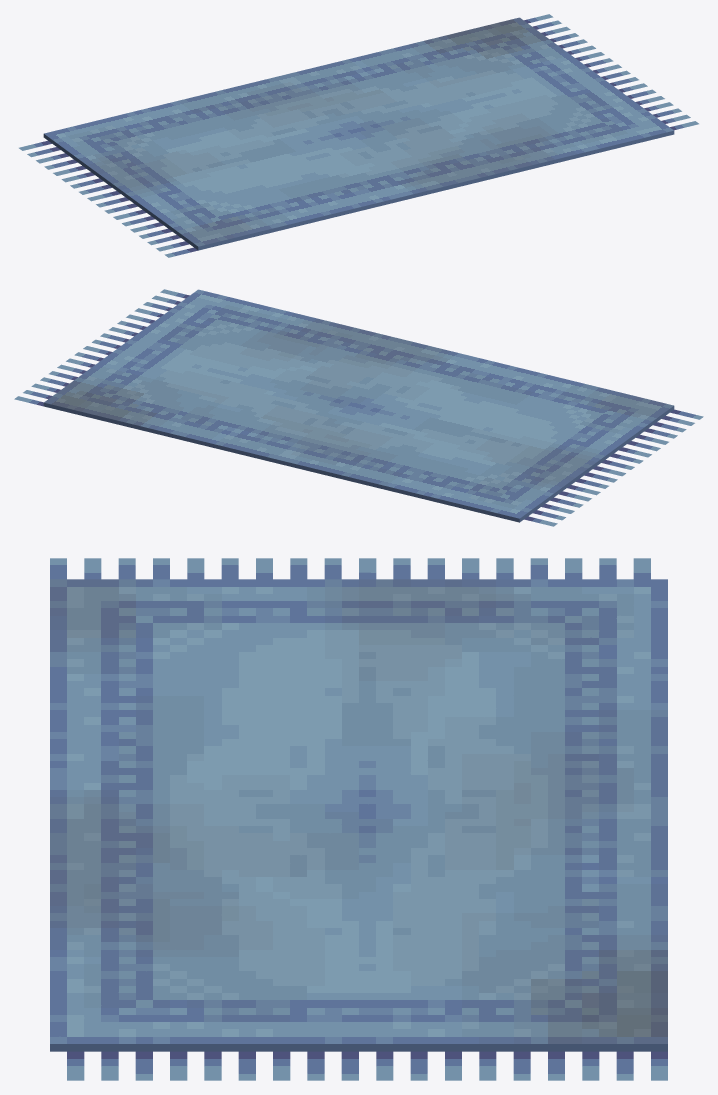
Rendered from Airship Rug.gltf.
3 renders of one model, top to bottom at view 1: azimuth 30°, elevation 25°; view 2: azimuth 150°, elevation 25°; view 3: azimuth 270°, elevation 25°, orthographic. The views are drawn at different scales.
Parts seen in each view (by area): view 1: cuboid; view 2: cuboid; view 3: cuboid.
Part boxes in pixels (box(x1,y1,x2,y2)): cuboid: box(19, 14, 698, 257); cuboid: box(14, 289, 703, 526); cuboid: box(50, 558, 667, 1080).
Bounding box in the file's own units: 4.5 × 0.0312 × 2.25.
Materials: 1 (1 with a texture image).
